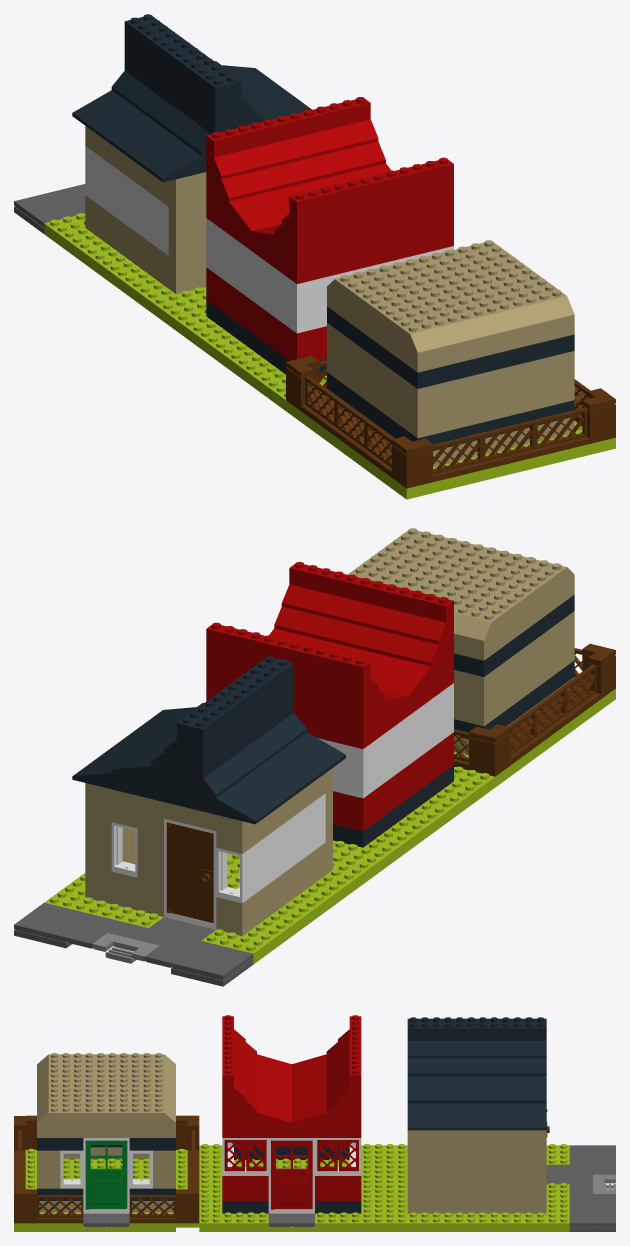
File: Block2-lod1.fbx
3 views of the same model, one above another, from view 1: azimuth 30°, elevation 25°; view 2: azimuth 150°, elevation 25°; view 3: azimuth 270°, elevation 25° (orthographic). The views are drawn at different scales.
Parts seen in each view (by area): view 1: Material_5, Material_21, Material_26, Material_192, Material_119, Material_1, Material_199; view 2: Material_5, Material_21, Material_26, Material_119, Material_1, Material_192, Material_199, Material_315; view 3: Material_5, Material_21, Material_26, Material_119, Material_192, Material_199, Material_1, Material_28, Material_315.
Boxes of the visible parts, box(x1,y1,x2,y2) form: Material_5: box(85, 126, 574, 467); Material_21: box(206, 97, 453, 360); Material_26: box(72, 14, 574, 450); Material_192: box(286, 355, 615, 488); Material_119: box(44, 213, 615, 499); Material_1: box(85, 146, 453, 333); Material_199: box(14, 184, 85, 233); Material_5: box(85, 528, 574, 936); Material_21: box(206, 562, 453, 831); Material_26: box(72, 595, 574, 847); Material_119: box(44, 687, 615, 964); Material_1: box(111, 683, 453, 929); Material_192: box(166, 643, 615, 923); Material_199: box(14, 902, 253, 986); Material_315: box(92, 933, 159, 963); Material_5: box(37, 1053, 546, 1213); Material_21: box(222, 1015, 361, 1209); Material_26: box(37, 1017, 546, 1213); Material_119: box(14, 1144, 569, 1231); Material_192: box(14, 1109, 549, 1223); Material_199: box(83, 1145, 615, 1231); Material_1: box(60, 1138, 361, 1213); Material_28: box(85, 1140, 127, 1209); Material_315: box(593, 1174, 615, 1193).
Bounding box in the file's own units: 12.8 × 12.34 × 41.6.
